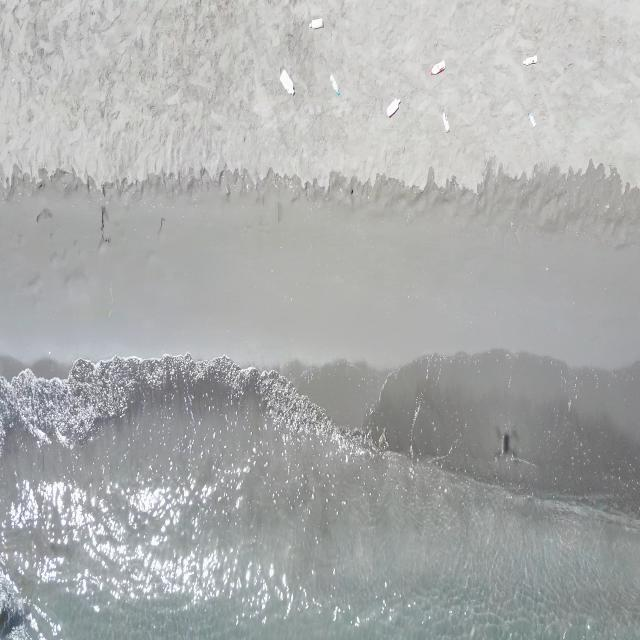Garbage: (280, 68, 292, 94), (164, 88, 180, 104), (386, 98, 400, 116), (329, 74, 339, 95), (431, 60, 444, 74), (308, 18, 323, 27), (522, 55, 535, 63), (528, 112, 535, 125), (443, 111, 447, 131)
